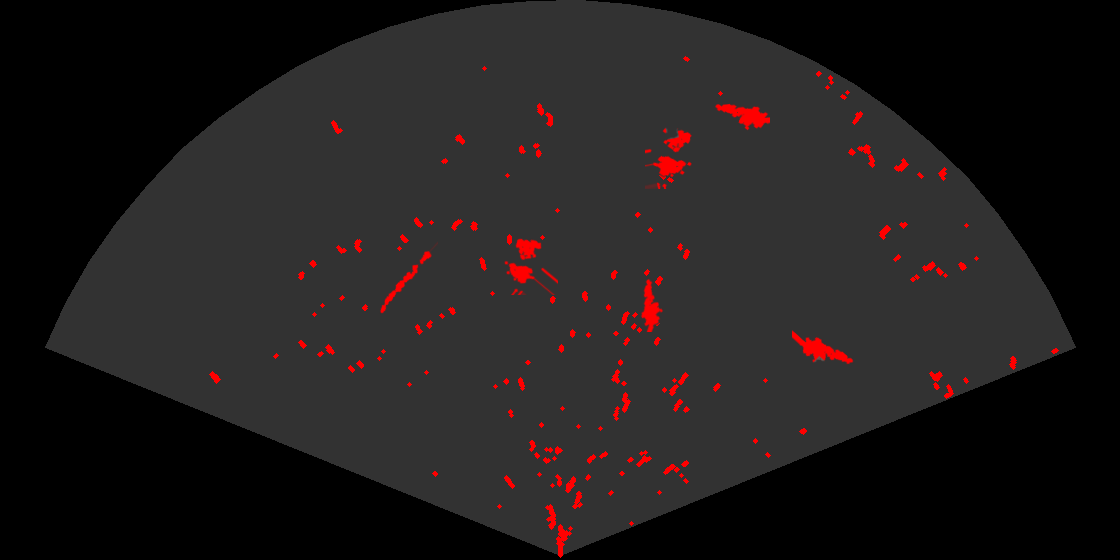cage: (503, 237, 558, 295), (645, 127, 693, 189)
chain: (379, 240, 438, 315)
frogman: (792, 329, 855, 366), (713, 102, 770, 132), (639, 277, 665, 332)
